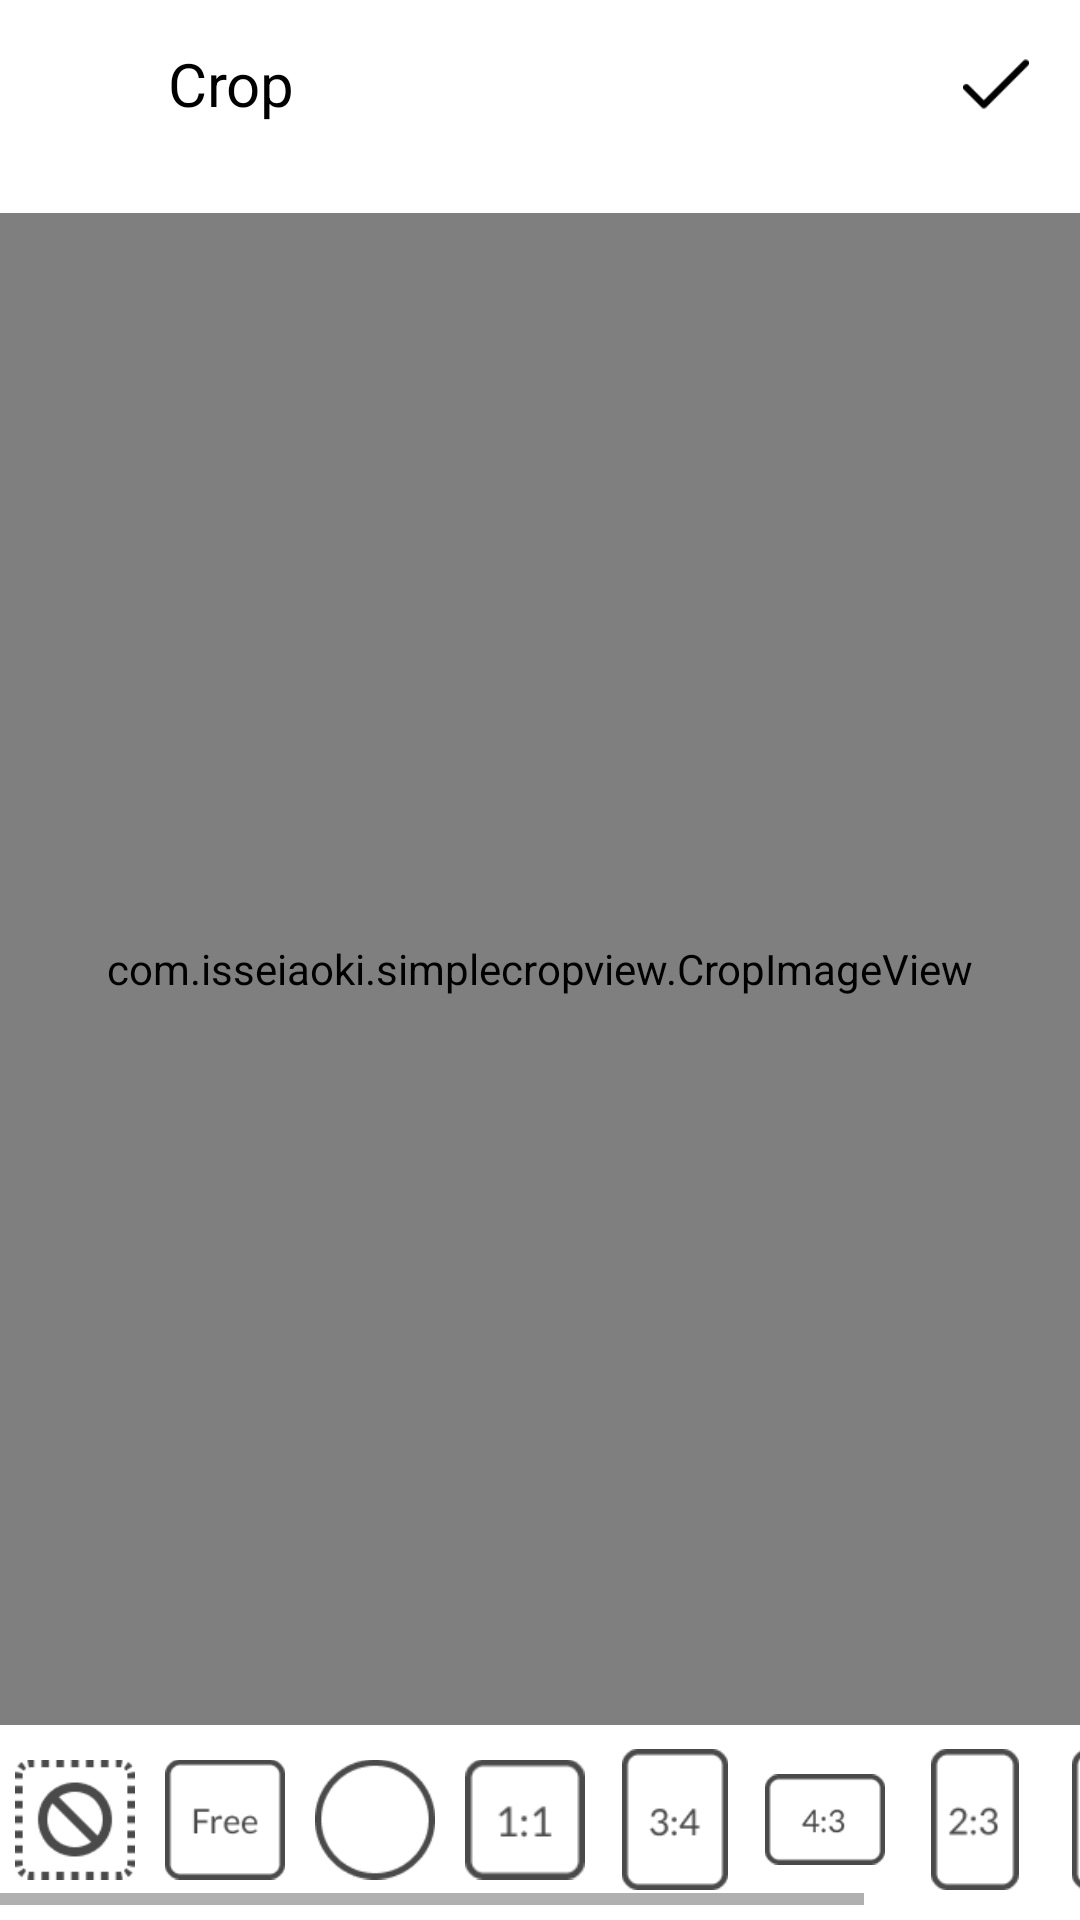

Screen size 1080 × 1920. Icon name, then its box in pixels as [x1, y1, x2, y2]:
circle: [315, 1760, 435, 1880]
done: [963, 59, 1029, 109]
none: [15, 1760, 135, 1880]
